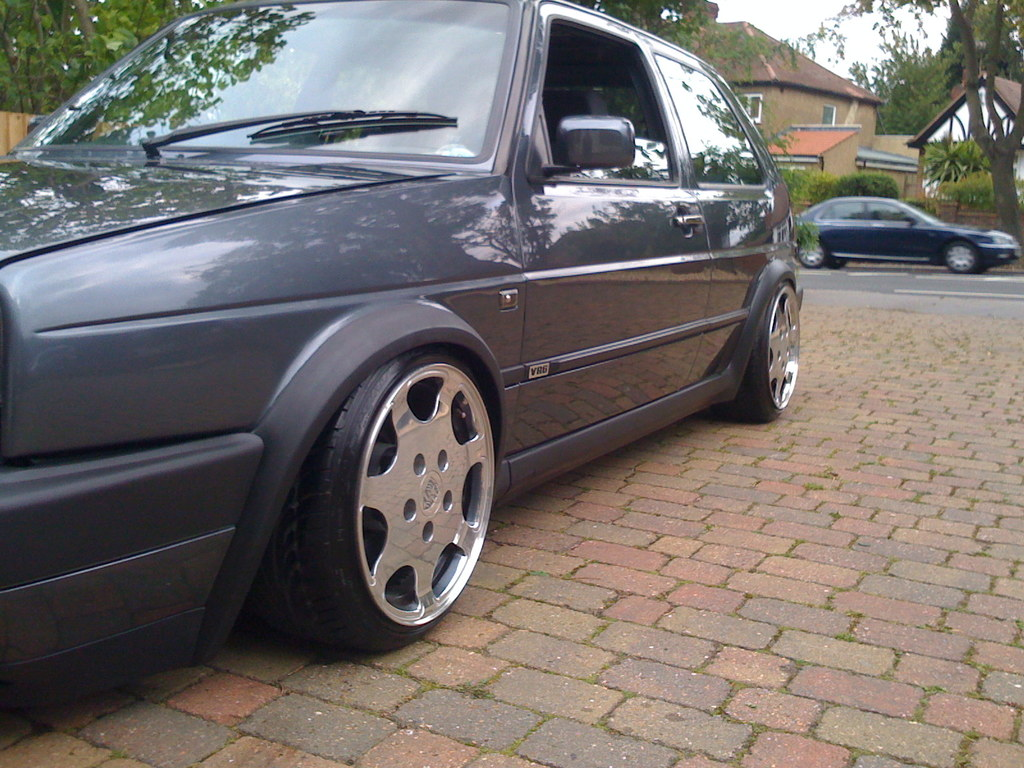car: (1, 1, 815, 672), (781, 182, 1020, 284)
